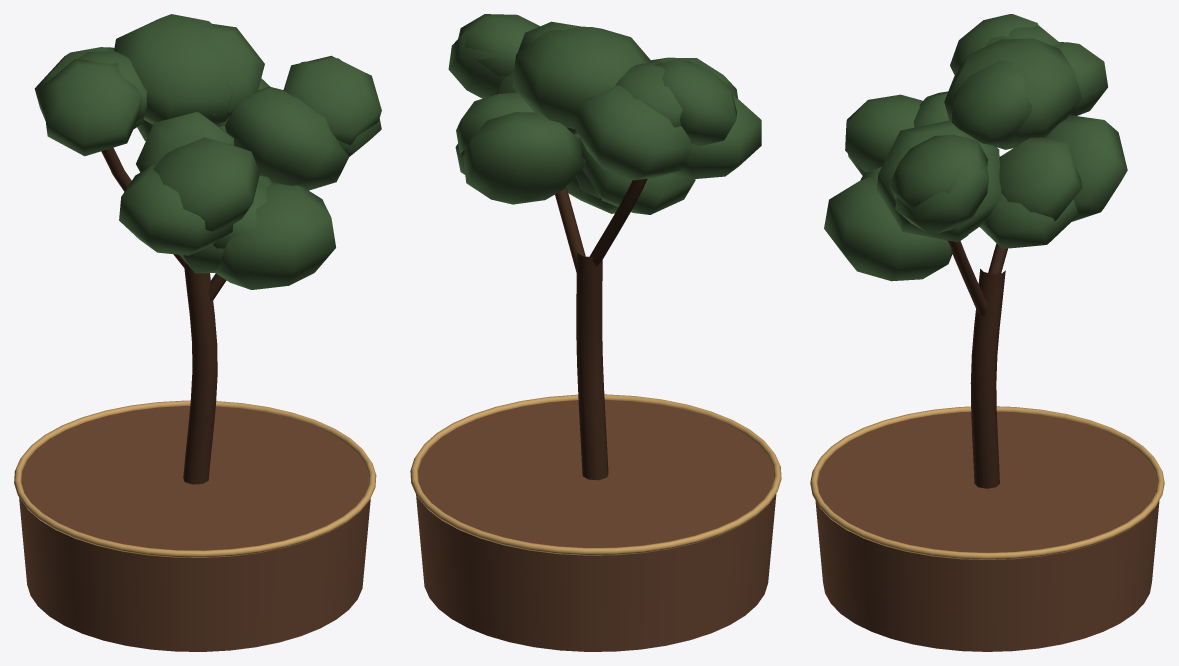
Rendered from planter_tree.glb.
3 views of the same model, side by side, from view 1: azimuth 30°, elevation 25°; view 2: azimuth 150°, elevation 25°; view 3: azimuth 270°, elevation 25° (orthographic). The views are drawn at different scales.
Visible parts, largest first — view 1: Mesh_Planter, Mesh_Leaf2_2, Mesh_Leaf5_1, Mesh_Leaf0_2, Mesh_Leaf1_2, Mesh_Leaf4_0, Mesh_Rim, Mesh_Trunk, Mesh_Leaf0_1, Mesh_Leaf4_2, Mesh_Leaf2_1, Mesh_Leaf4_1 (+6 smaller); view 2: Mesh_Planter, Mesh_Leaf3_1, Mesh_Leaf2_2, Mesh_Leaf1_1, Mesh_Rim, Mesh_Trunk, Mesh_Leaf1_2, Mesh_Leaf4_2, Mesh_Leaf5_2, Mesh_Leaf0_1, Mesh_Leaf0_0, Mesh_Leaf1_0 (+5 smaller); view 3: Mesh_Planter, Mesh_Leaf5_1, Mesh_Leaf2_2, Mesh_Rim, Mesh_Trunk, Mesh_Leaf3_2, Mesh_Leaf2_1, Mesh_Leaf3_1, Mesh_Leaf0_1, Mesh_Leaf0_2, Mesh_Leaf4_0, Mesh_Leaf0_0 (+6 smaller).
Boxes of the visible parts, x1,y1,x2,y2 form: Mesh_Planter: (19,406,370,651); Mesh_Leaf2_2: (114,14,234,124); Mesh_Leaf5_1: (215,182,335,289); Mesh_Leaf0_2: (225,86,348,190); Mesh_Leaf1_2: (42,59,142,156); Mesh_Leaf4_0: (153,137,259,231); Mesh_Rim: (14,400,376,557); Mesh_Trunk: (183,263,217,484); Mesh_Leaf0_1: (283,55,381,145); Mesh_Leaf4_2: (119,164,233,255); Mesh_Leaf2_1: (200,24,264,120); Mesh_Leaf4_1: (136,111,234,172); Mesh_Planter: (416,400,776,651); Mesh_Leaf3_1: (463,112,583,204); Mesh_Leaf2_2: (512,26,652,128); Mesh_Leaf1_1: (573,85,691,180); Mesh_Rim: (410,394,781,555); Mesh_Trunk: (576,252,608,480); Mesh_Leaf1_2: (653,59,736,146); Mesh_Leaf4_2: (671,96,761,179); Mesh_Leaf5_2: (581,142,695,214); Mesh_Leaf0_1: (458,14,539,76); Mesh_Leaf0_0: (448,29,510,98); Mesh_Leaf1_0: (615,61,682,127); Mesh_Planter: (815,411,1159,651); Mesh_Leaf5_1: (824,177,952,281); Mesh_Leaf2_2: (944,38,1081,149); Mesh_Rim: (810,406,1164,559); Mesh_Trunk: (970,269,1005,488); Mesh_Leaf3_2: (999,137,1082,220); Mesh_Leaf2_1: (951,60,1031,147); Mesh_Leaf3_1: (1046,115,1127,221); Mesh_Leaf0_1: (889,134,987,209); Mesh_Leaf0_2: (876,120,1001,242); Mesh_Leaf4_0: (845,94,922,172); Mesh_Leaf0_0: (895,137,988,235).
Bounding box in the file's own units: 1.96 × 3.22 × 1.94.
